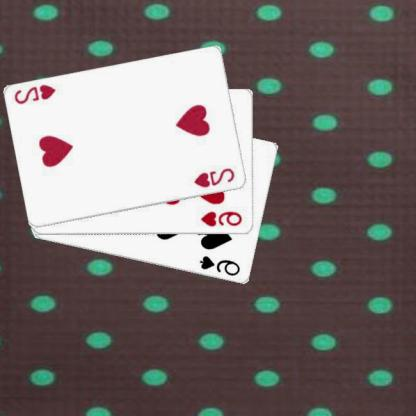2H: (13, 82, 60, 106), (193, 165, 238, 190)
9H: (200, 210, 246, 228)
9S: (198, 253, 244, 278)
